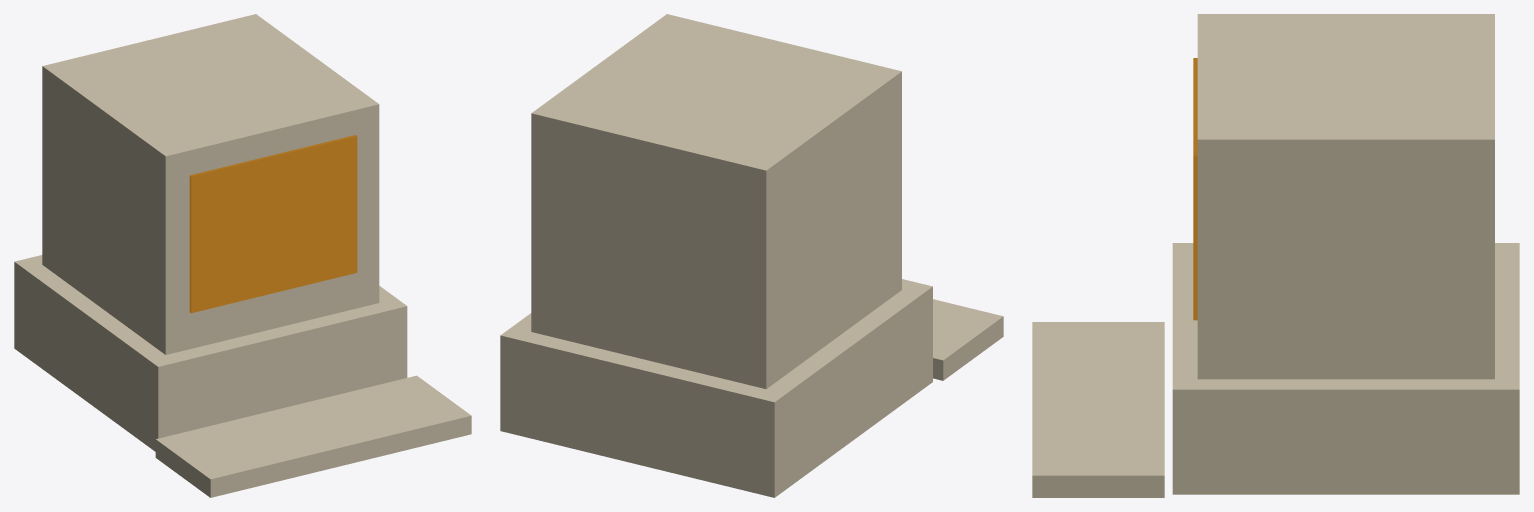
3 renders of one model, left to right at view 1: azimuth 30°, elevation 25°; view 2: azimuth 150°, elevation 25°; view 3: azimuth 270°, elevation 25°, orthographic. The views are drawn at different scales.
Visible parts, largest first — view 1: kit-pc, SCREEN; view 2: kit-pc; view 3: kit-pc, SCREEN.
Part boxes in pixels (<box>): kit-pc: <box>14,14,471,497</box>; SCREEN: <box>189,135,357,313</box>; kit-pc: <box>500,14,1003,497</box>; kit-pc: <box>1032,14,1519,497</box>; SCREEN: <box>1193,58,1197,320</box>.
Bounding box in the file's own units: 0.44 × 0.46 × 0.59.
